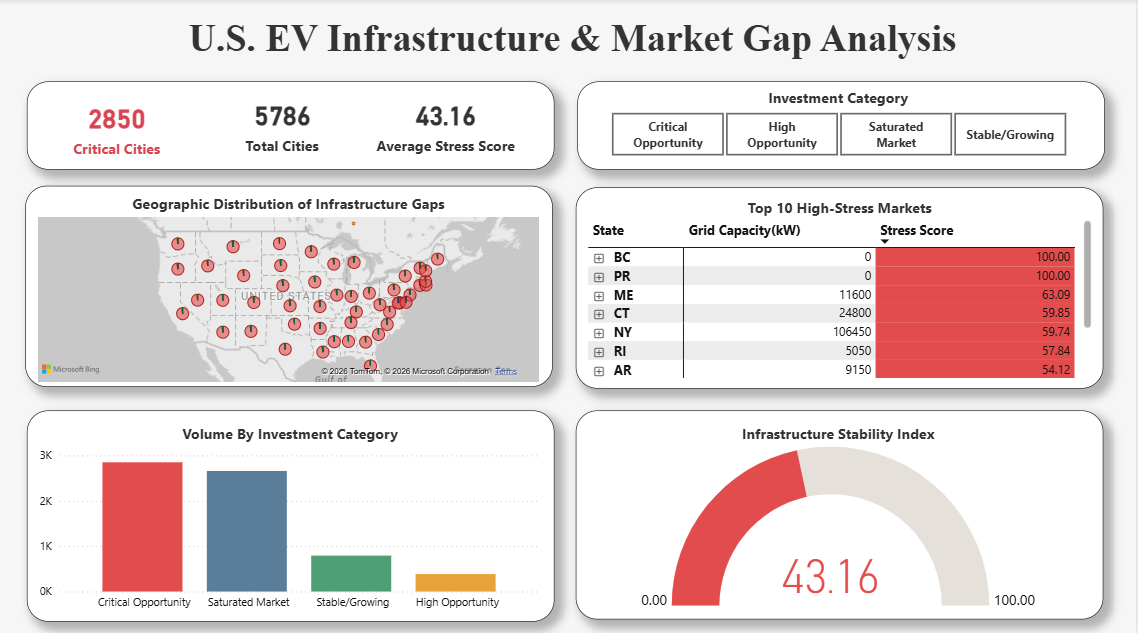

What the dashboard file says about the page in this screenshot:
{"tool":"powerbi","page":{"name":"Page 1","canvas":[1280,720],"ordinal":0},"visuals":[{"type":"multiRowCard","fields":{"Values":["ev_investment_analysis_final.Total Cities"]},"box":[31.7,462.9,593.4,237.4],"z":0,"group":"g1"},{"type":"group","id":"g1","title":"background","box":[30.7,93.6,1214.6,608.2],"z":500},{"type":"map","title":"Geographic Distribution of Infrastructure Gaps","fields":{"Category":["ev_investment_analysis_final.state","ev_investment_analysis_final.city"],"Series":["ev_investment_analysis_final.investment_category"],"Size":["Avg(ev_investment_analysis_final.stress_score)"]},"box":[39.7,220.2,573.9,216.6],"z":1000},{"type":"multiRowCard","fields":{"Values":["ev_investment_analysis_final.Total Cities"]},"box":[650.5,464,593.4,235.2],"z":1000,"group":"g1"},{"type":"multiRowCard","fields":{"Values":["ev_investment_analysis_final.Total Cities"]},"box":[30.7,211.2,593.4,226.4],"z":2000,"group":"g1"},{"type":"pivotTable","title":"Top 10 High-Stress Markets","fields":{"Rows":["ev_investment_analysis_final.state","ev_investment_analysis_final.city"],"Values":["Sum(ev_investment_analysis_final.total_dc_fast_kw)","Avg(ev_investment_analysis_final.stress_score)"]},"box":[658.7,223.8,575.7,207.5],"z":2000},{"type":"multiRowCard","fields":{"Values":["ev_investment_analysis_final.Total Cities"]},"box":[650.5,213.4,593.4,226.4],"z":3000,"group":"g1"},{"type":"clusteredColumnChart","title":"Volume By Investment Category","fields":{"Category":["ev_investment_analysis_final.investment_category"],"Y":["ev_investment_analysis_final.Total Cities"]},"box":[41.5,478.3,573.9,220.2],"z":3000},{"type":"multiRowCard","fields":{"Values":["ev_investment_analysis_final.Total Cities"]},"box":[31.7,93.6,593.4,98.9],"z":4000,"group":"g1"},{"type":"gauge","title":"Infrastructure Stability Index","fields":{"Y":["Avg(ev_investment_analysis_final.stress_score)"]},"box":[656.9,478.3,575.7,214.8],"z":4000},{"type":"multiRowCard","fields":{"Values":["ev_investment_analysis_final.Total Cities"]},"box":[651.4,93.6,593.4,98.9],"z":5000,"group":"g1"},{"type":"textbox","box":[39.7,16.2,1212.8,61.4],"z":5000},{"type":"slicer","title":"Investment Category","fields":{"Values":["ev_investment_analysis_final.investment_category"]},"box":[664.1,101.1,561.3,83],"z":6000},{"type":"card","fields":{"Values":["ev_investment_analysis_final.Critical Cities"]},"box":[41.5,95.7,184.1,99.3],"z":7000},{"type":"card","fields":{"Values":["ev_investment_analysis_final.Total Cities"]},"box":[225.6,92,187.7,99.3],"z":8000},{"type":"card","fields":{"Values":["ev_investment_analysis_final.Average Stress Score"]},"box":[413.3,92,180.5,99.3],"z":9000}]}

Visuals, with their boxes in screenshot pixels (x1, y1, x2, y2), scaled from the page's 1280x720 canvas onto the 1138x633 screenshot:
multiRowCard - ev_investment_analysis_final.Total Cities: region(28, 407, 556, 616)
"background" group: region(27, 82, 1107, 617)
"Geographic Distribution of Infrastructure Gaps" map: region(35, 194, 546, 384)
multiRowCard - ev_investment_analysis_final.Total Cities: region(578, 408, 1106, 615)
multiRowCard - ev_investment_analysis_final.Total Cities: region(27, 186, 555, 385)
"Top 10 High-Stress Markets" pivotTable: region(586, 197, 1097, 379)
multiRowCard - ev_investment_analysis_final.Total Cities: region(578, 188, 1106, 387)
"Volume By Investment Category" clusteredColumnChart: region(37, 421, 547, 614)
multiRowCard - ev_investment_analysis_final.Total Cities: region(28, 82, 556, 169)
"Infrastructure Stability Index" gauge: region(584, 421, 1096, 609)
multiRowCard - ev_investment_analysis_final.Total Cities: region(579, 82, 1107, 169)
textbox: region(35, 14, 1114, 68)
"Investment Category" slicer: region(590, 89, 1089, 162)
card - ev_investment_analysis_final.Critical Cities: region(37, 84, 201, 171)
card - ev_investment_analysis_final.Total Cities: region(201, 81, 367, 168)
card - ev_investment_analysis_final.Average Stress Score: region(367, 81, 528, 168)
